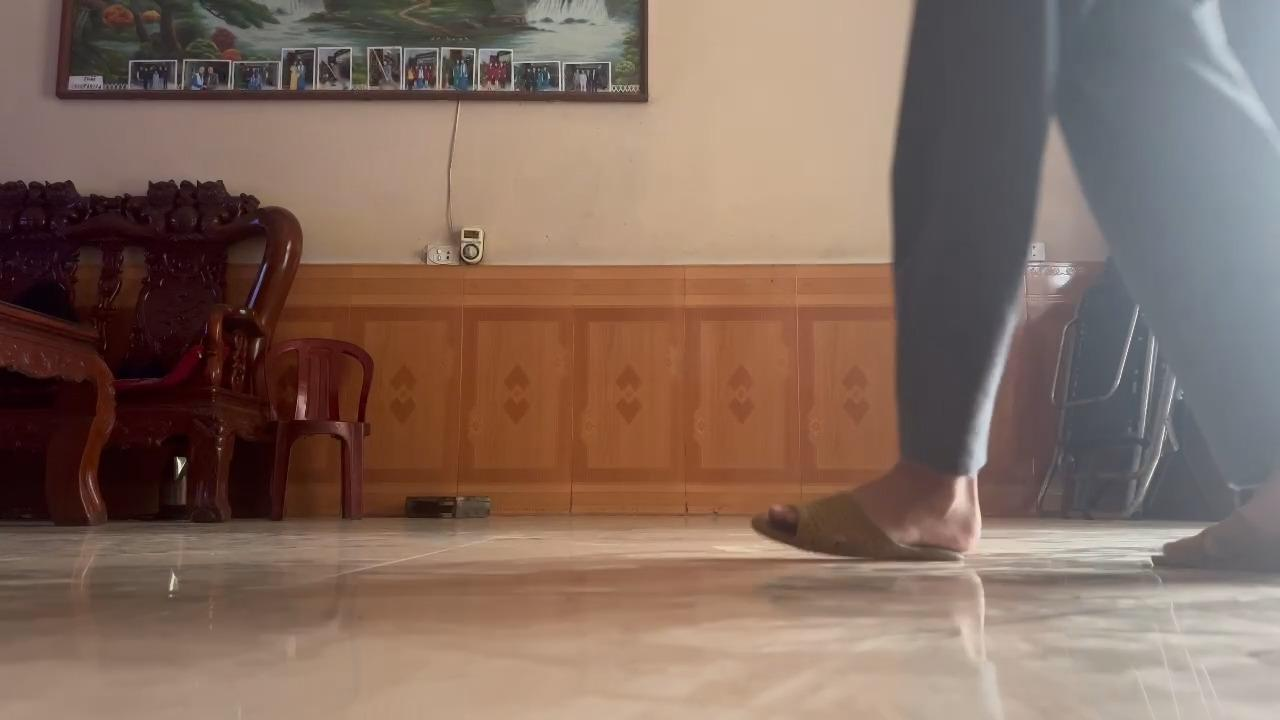no-boot: (746, 479, 990, 569), (1150, 502, 1280, 578)
